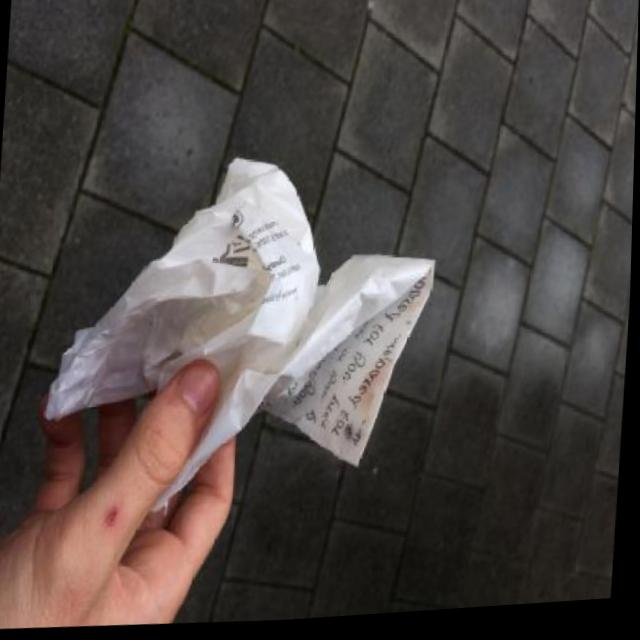plastic: (34, 134, 446, 530)
